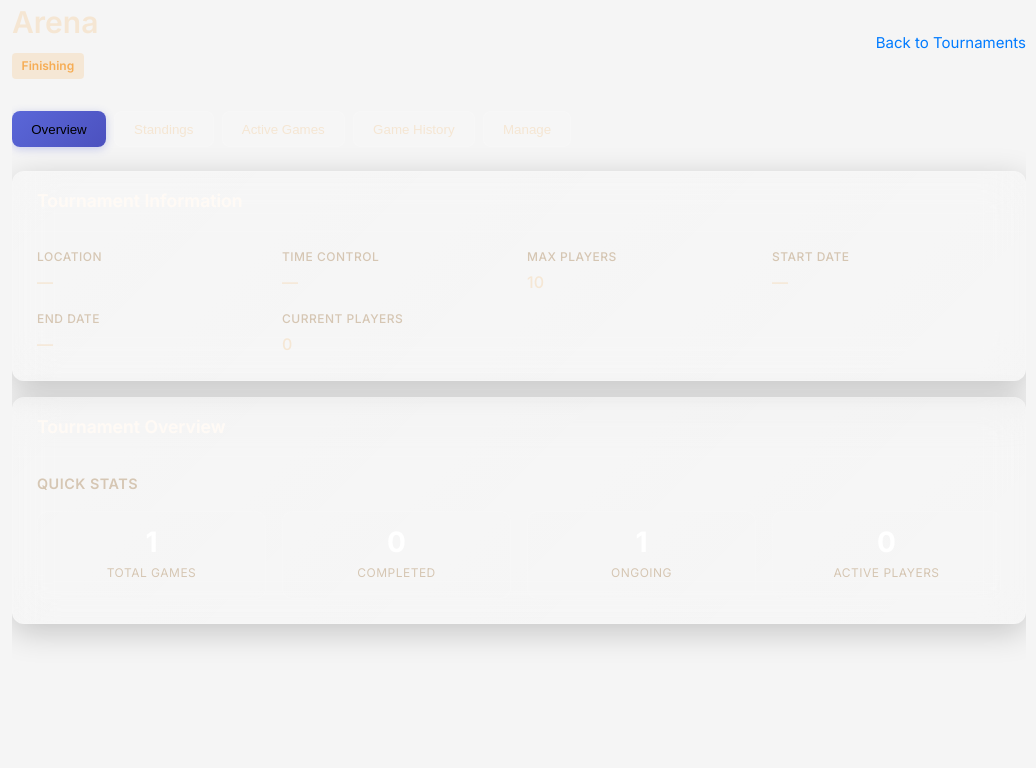
Test: detail updates completion immediately after the last cancel
The image size is (1036, 768).
Click the button "Active Games". click: (283, 129)
box: [222,111,345,147]
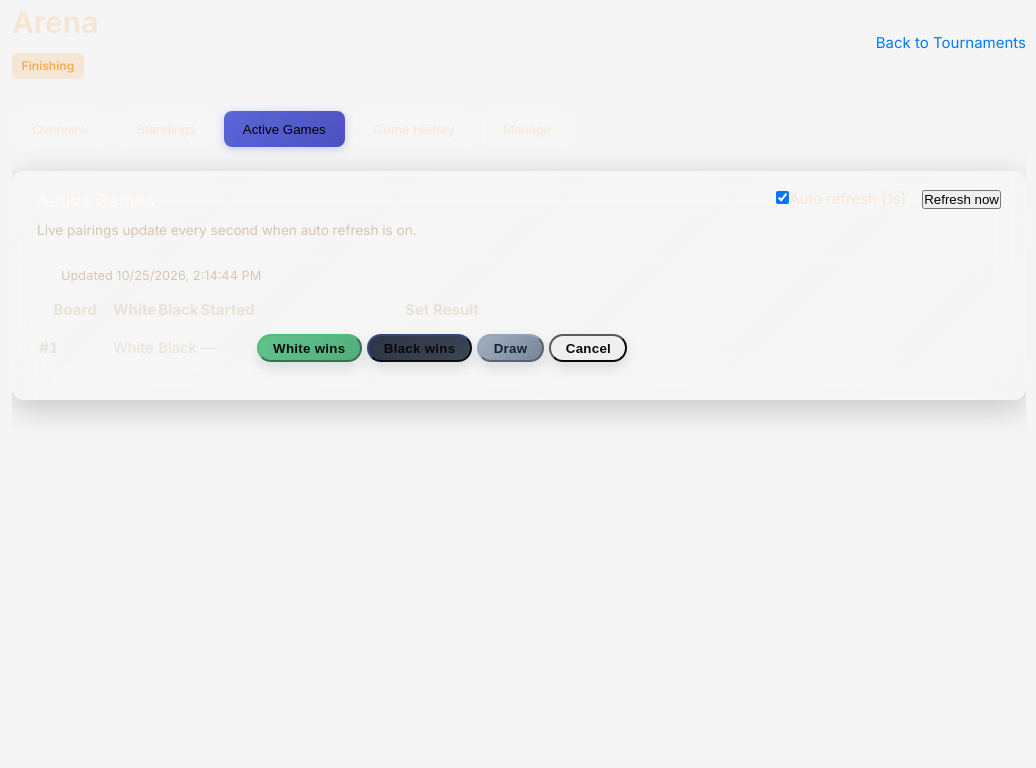
Click the checkbox. click: (783, 198)
box: [776,191,789,204]
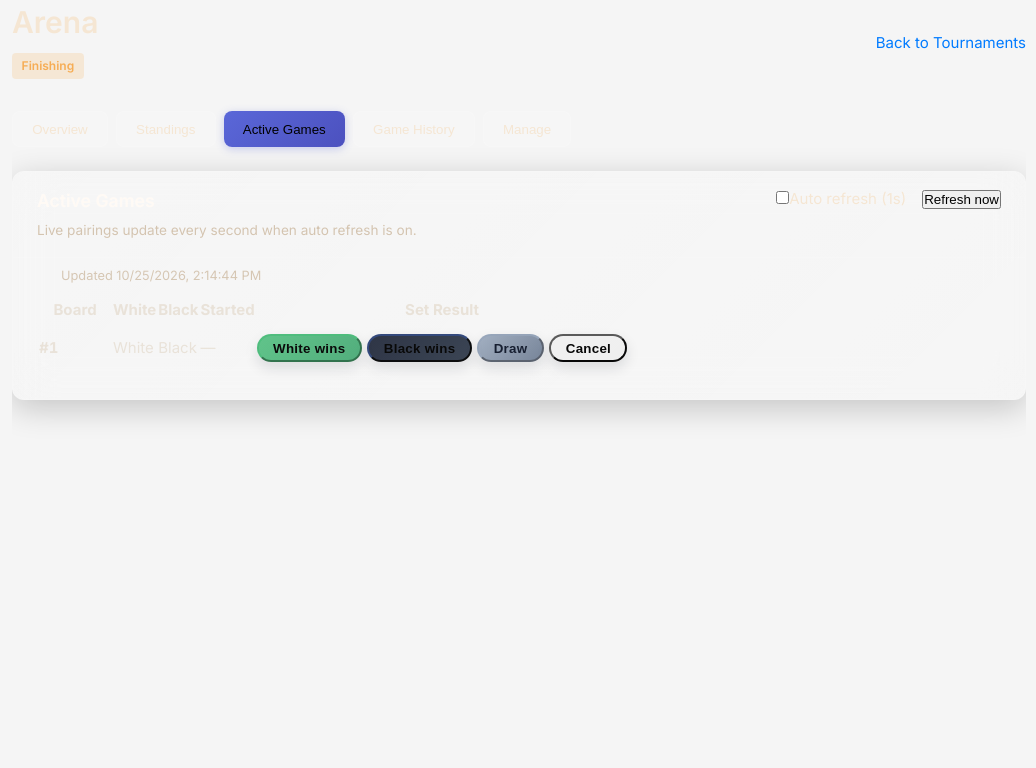
Click the button "Cancel". click: (588, 348)
box: [549,334,628,362]
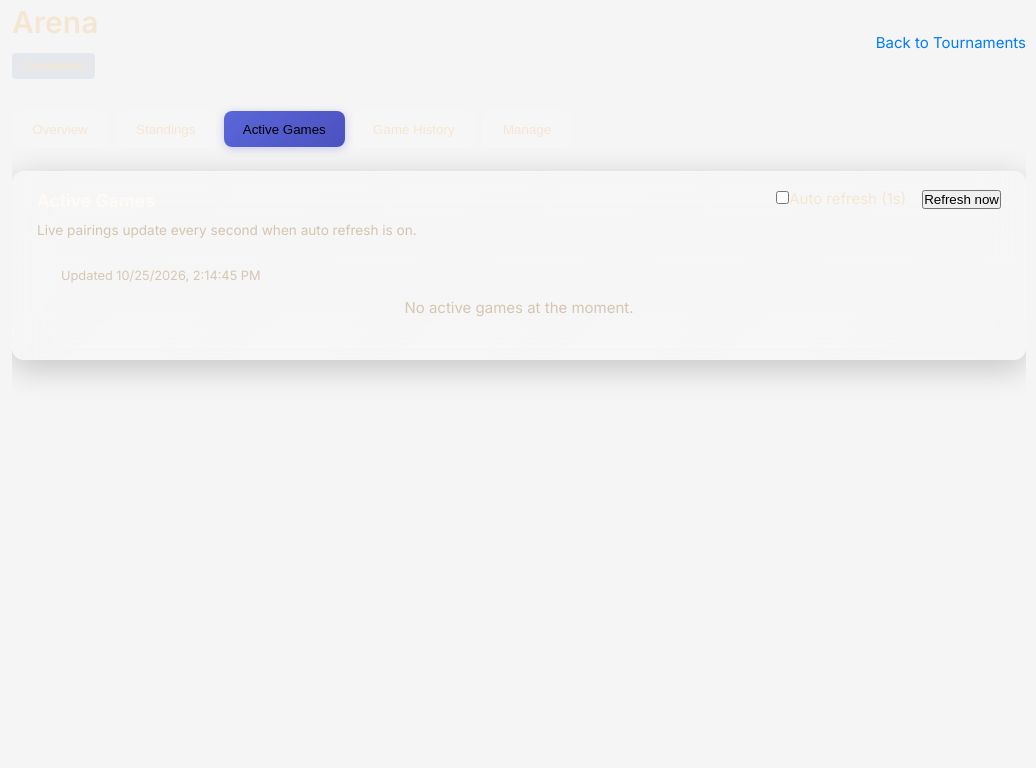
Now the text "Completed" is shown, box [12,53,95,79]
Now the text "Finishing" is gone
